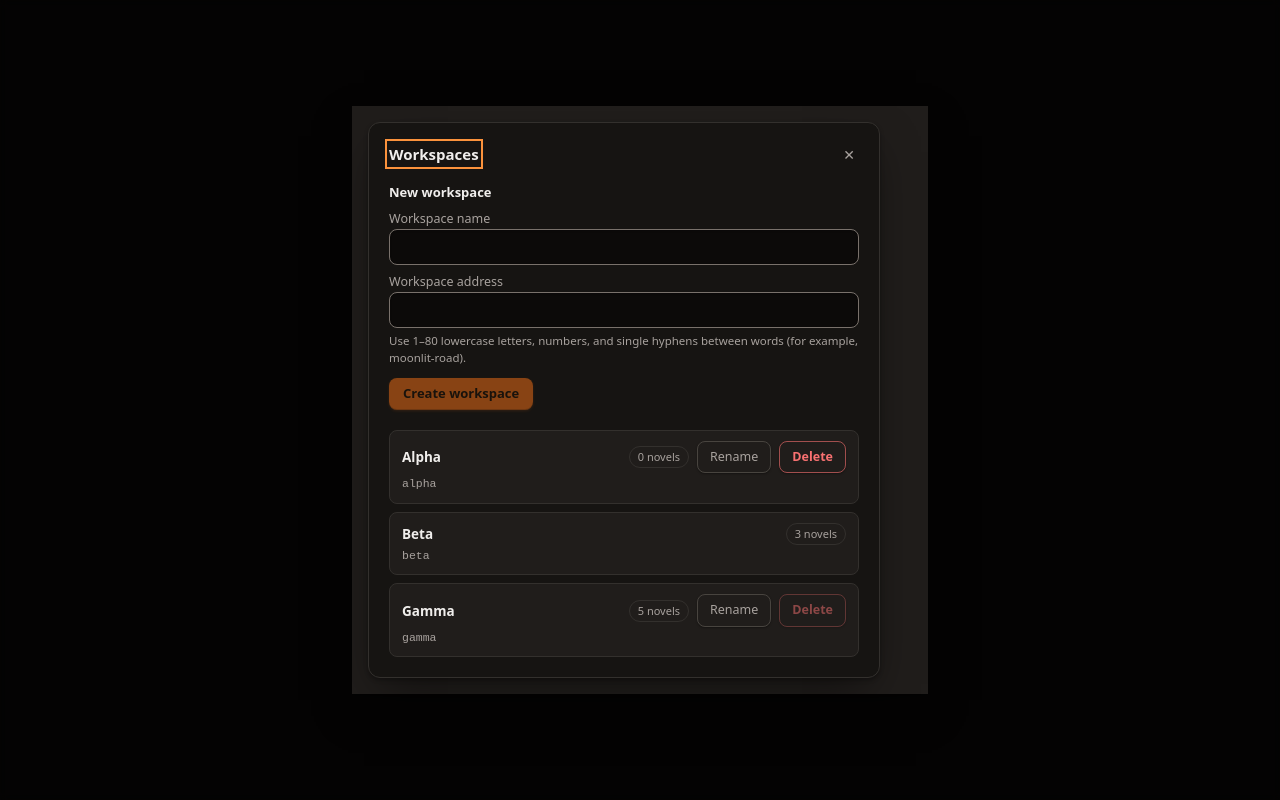
workspace manager dialog › shows the forbidden copy on 403
Click the button with test id "ws-delete-alpha". click: (813, 457)
box: [779, 441, 846, 473]
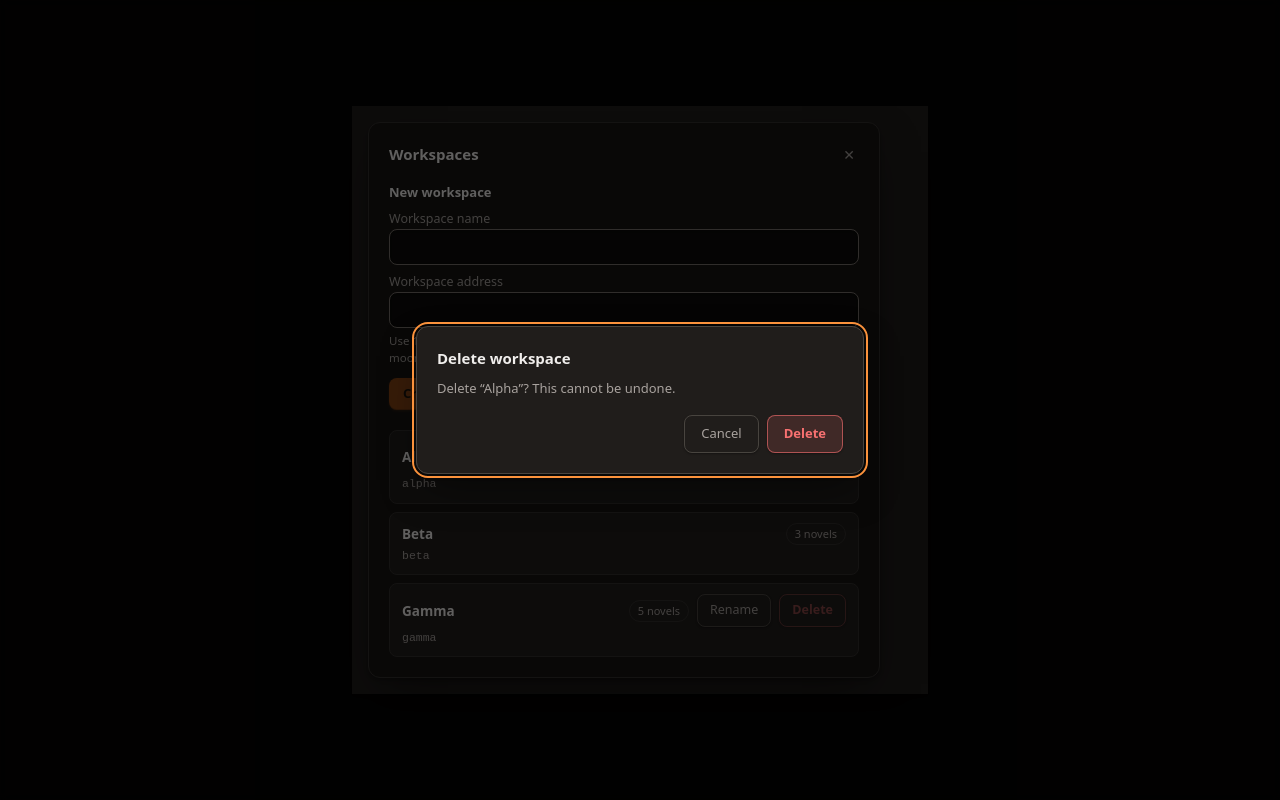
Click the button with test id "confirm-ok". click: (805, 434)
box: [767, 415, 843, 453]
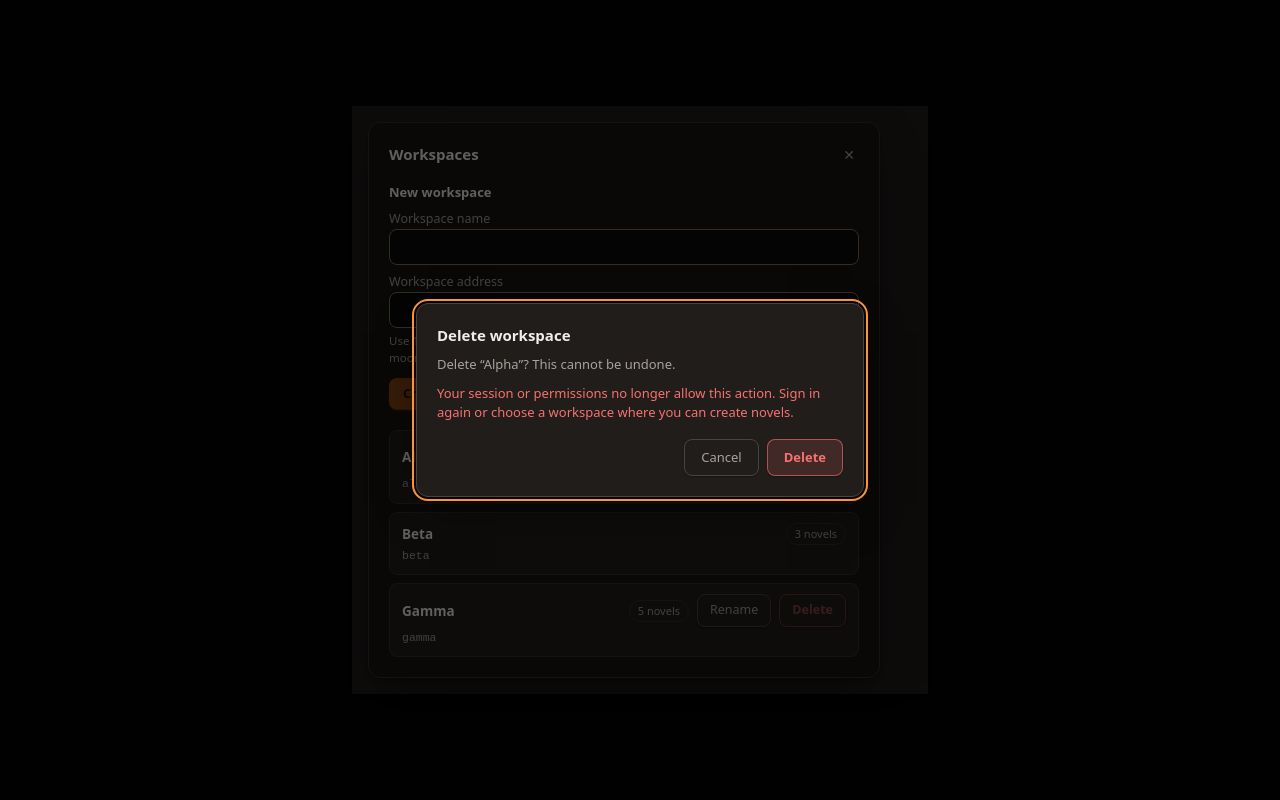
Expected: the message shows "Your session or permissions no longer allow this action. Sign in again or choose a workspace where you can create novels.", [437, 384, 820, 421]
